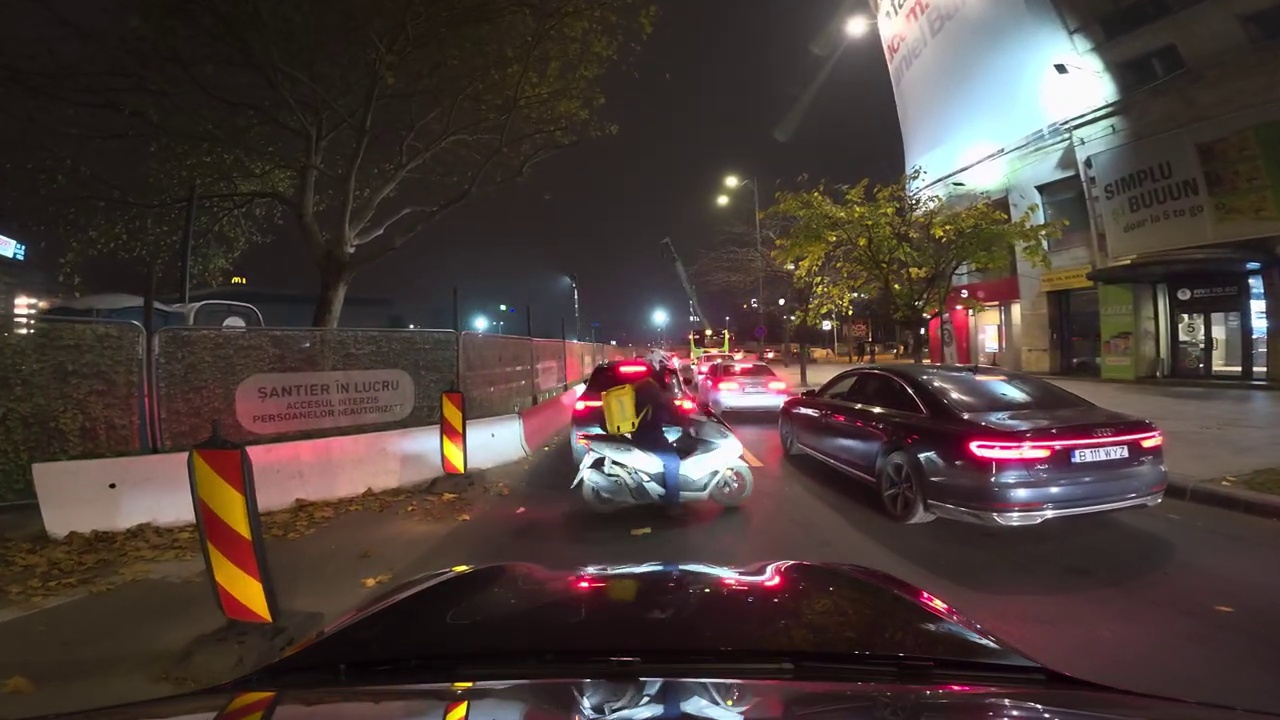acesa: (714, 171, 743, 211), (843, 12, 874, 41), (648, 304, 672, 330)
